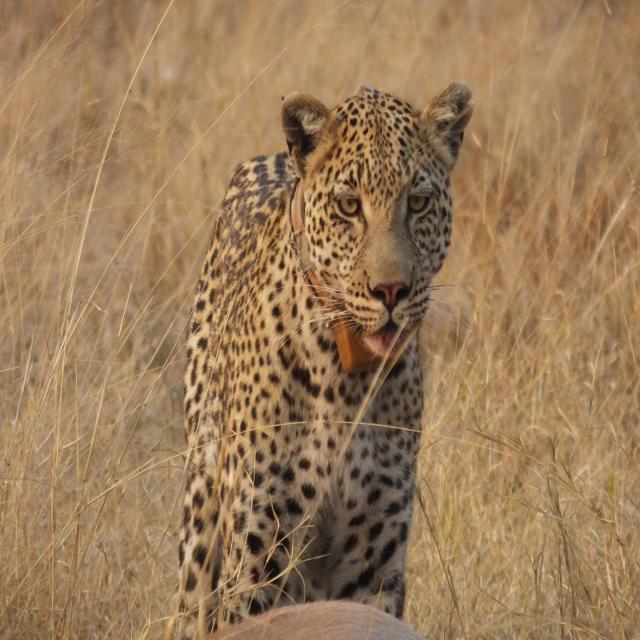Leopard: (172, 75, 471, 640)
